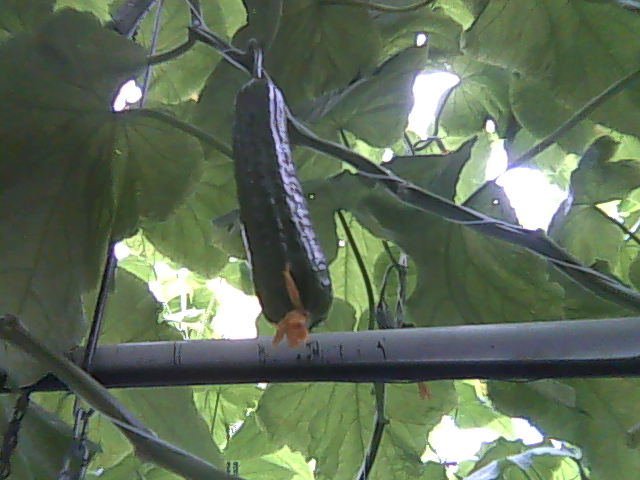concombre: (227, 68, 335, 351)
